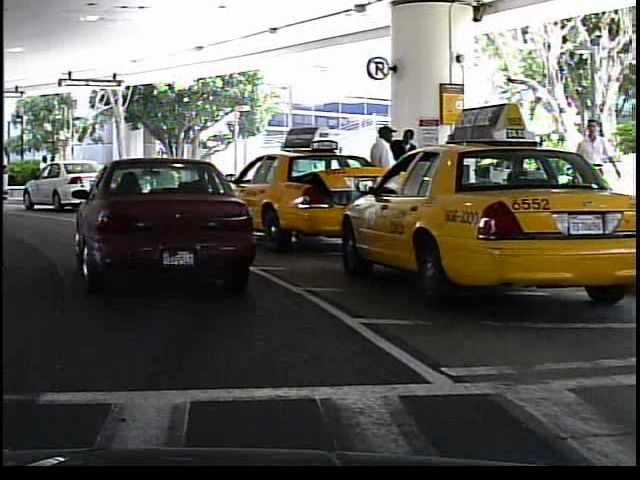person: (567, 115, 615, 235), (364, 124, 398, 234), (389, 124, 420, 227), (30, 151, 55, 194)
